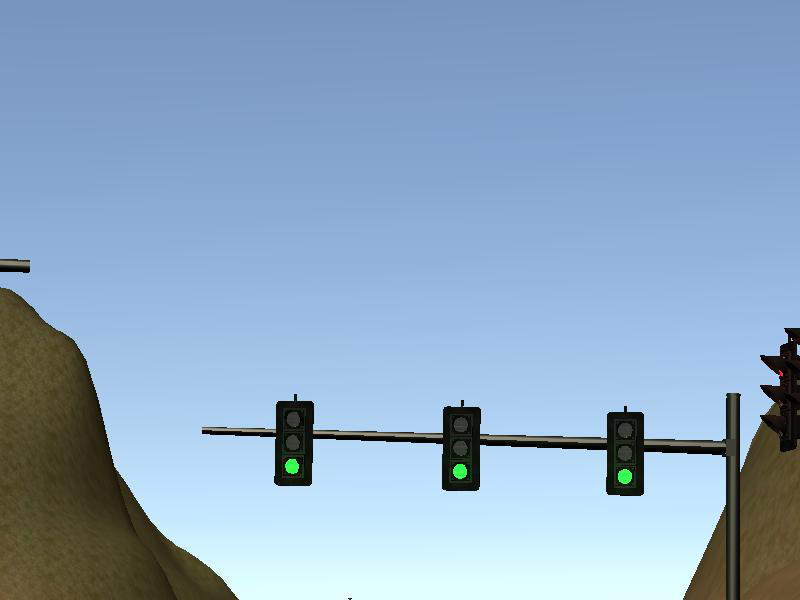green: (277, 398, 314, 488), (443, 406, 478, 490), (608, 413, 643, 495)
